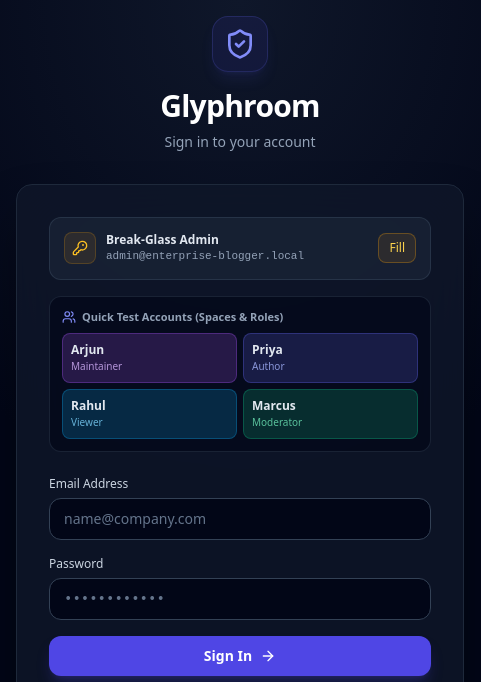
Test: SignInView Component › displays error alert banner when authentication fails
Quick fill
Click the button "Fill" at (397,248), box [378, 233, 416, 263]
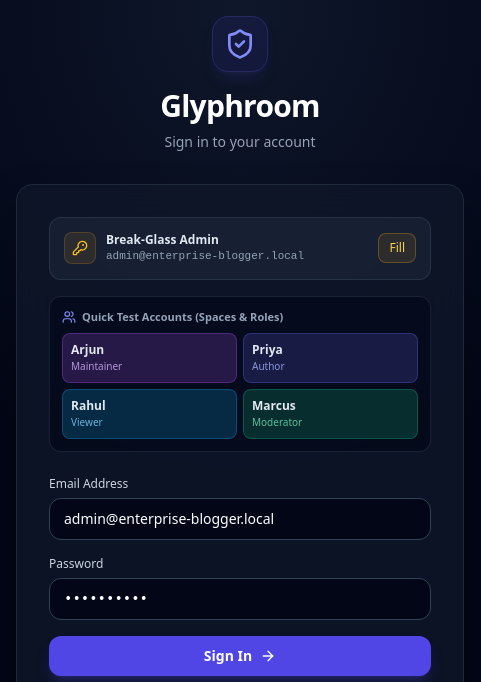
Click the button "Sign In" at (240,656), box [49, 636, 431, 676]
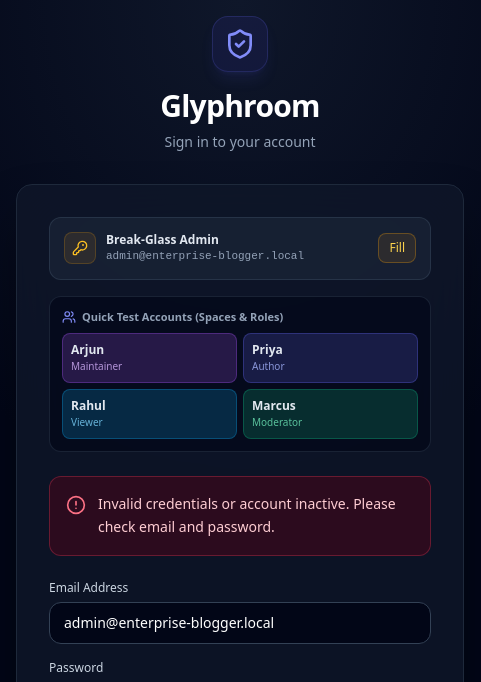
Expected: the message "Invalid credentials or account inactive. Please check email and password." is shown, [49, 476, 431, 556]
Expected: the message shows "Invalid credentials or account inactive", [98, 494, 396, 536]
